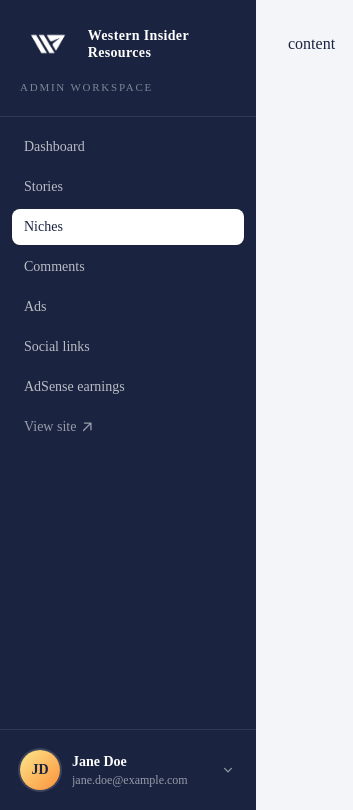
Test: <Shell> › closes the profile menu when Escape is pressed
The width and height of the screenshot is (353, 810).
Click the button with aria-label "Open profile menu for jane.doe@example.com". click: x=128, y=770
box: [12, 742, 244, 798]
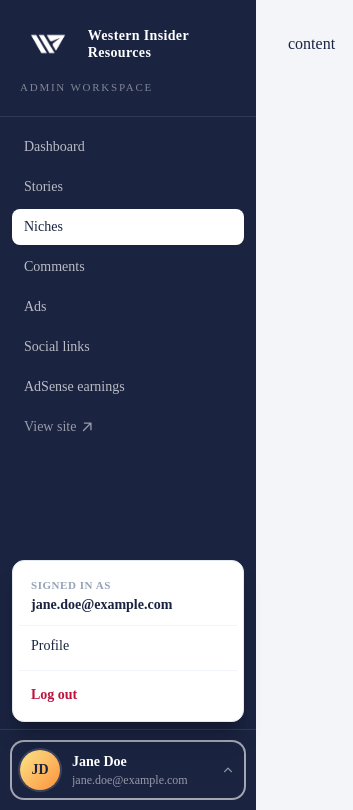
Check: the menu is shown, box [12, 560, 244, 722]
Press Escape
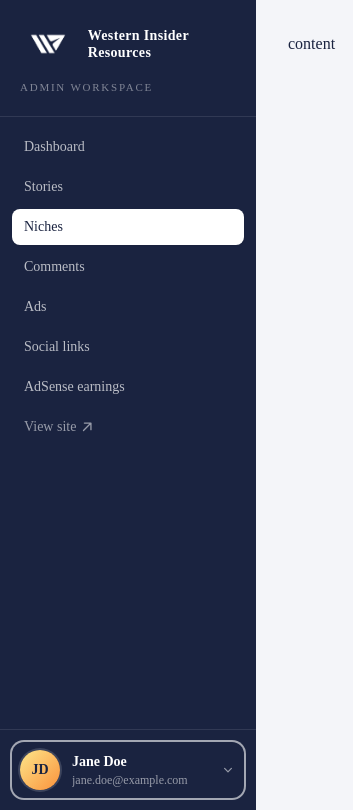
Check: the menu is gone
